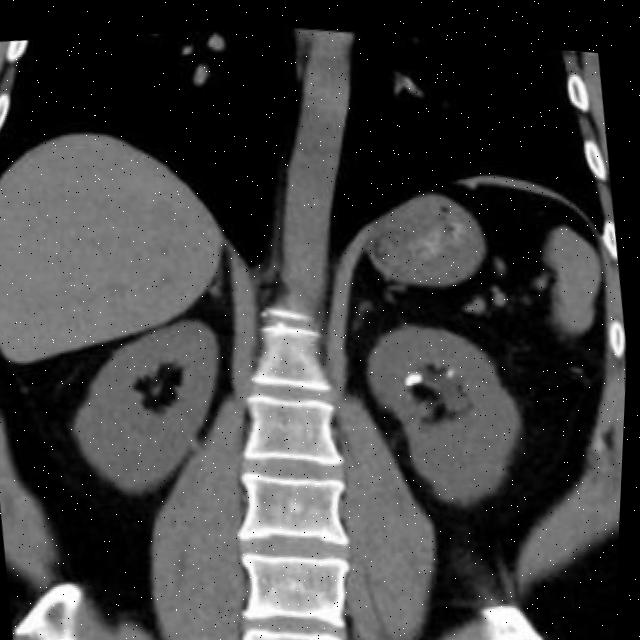Tas_Var: (406, 359, 434, 384), (448, 355, 463, 373)
